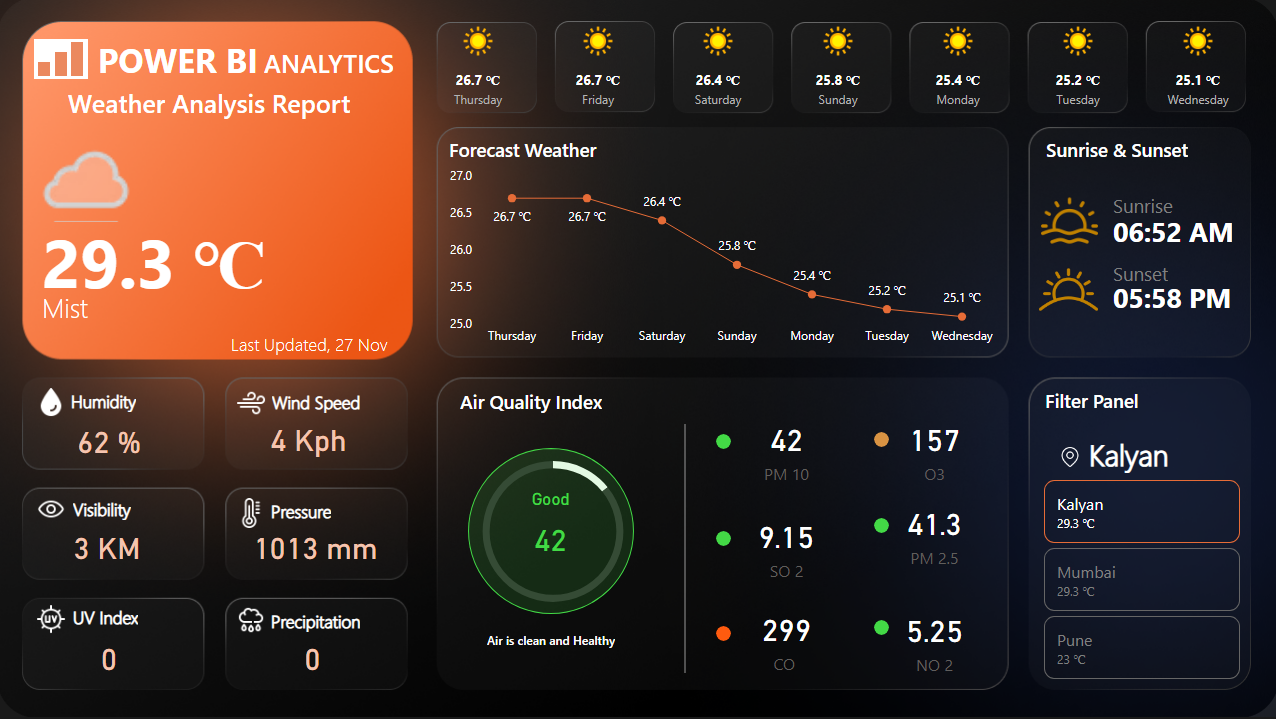

The page's visual inventory and layout, read from the dashboard file:
{"tool":"powerbi","page":{"name":"Weather Report","canvas":[1280,720],"ordinal":0},"visuals":[{"type":"donutChart","fields":{"Y":["Sum(Current.current.air_quality.pm10)","_Measures.Left_Value_PM10"]},"box":[462,437,186,191],"z":0},{"type":"shape","box":[470,449,166,166],"z":1000},{"type":"advancedSlicerVisual","fields":{"Values":["Location.location.name"],"Label":["_Measures.Curr_Temp_C"]},"box":[1040.6,476.3,205.9,209.6],"z":2000},{"type":"shape","box":[44,284,293,47],"z":3000},{"type":"shape","box":[44,214,302,94],"z":4000},{"type":"shape","box":[1091.5,425.4,101.7,58.3],"z":5000},{"type":"shape","box":[233,320,172,49],"z":6000},{"type":"image","box":[1056.7,440.3,29.8,36],"z":7000},{"type":"cardVisual","fields":{"Data":["Min(Current.current.condition.icon)"]},"box":[0,104,165,124],"z":8000},{"type":"image","box":[32.5,382.5,40,40],"z":9000},{"type":"image","box":[232.5,383.8,40,40],"z":10000},{"type":"image","box":[32.5,490,40,40],"z":11000},{"type":"image","box":[232.5,493.8,40,40],"z":12000},{"type":"image","box":[232.5,601.2,40,40],"z":13000},{"type":"image","box":[32.5,600,40,40],"z":14000},{"type":"shape","box":[72.5,377.5,137.5,47.5],"z":15000},{"type":"shape","box":[273.8,378.8,137.5,47.5],"z":16000},{"type":"shape","box":[272.5,487.5,137.5,47.5],"z":17000},{"type":"shape","box":[75,485,137.5,47.5],"z":18000},{"type":"shape","box":[75,593.8,137.5,47.5],"z":19000},{"type":"shape","box":[272.5,597.5,137.5,47.5],"z":20000},{"type":"card","fields":{"Values":["_Measures.Humidity"]},"box":[52.5,378.8,116.2,123.8],"z":21000},{"type":"card","fields":{"Values":["_Measures.Wind Speed"]},"box":[232.5,377.5,155,123.8],"z":22000},{"type":"card","fields":{"Values":["_Measures.Pressure"]},"box":[216.2,485,202.5,123.8],"z":23000},{"type":"card","fields":{"Values":["Sum(Current.current.precip_mm)"]},"box":[256.2,596.2,116.2,123.8],"z":24000},{"type":"card","fields":{"Values":["Sum(Current.current.uv)"]},"box":[52.5,596.2,116.2,123.8],"z":25000},{"type":"card","fields":{"Values":["_Measures.Visibility"]},"box":[28.8,485,160,123.8],"z":26000},{"type":"advancedSlicerVisual","fields":{"Label":["Sum(Forecast_Day.forecast.forecastday.day.avgtemp_f)"],"Values":["Forecast_Day.Day_Name"]},"box":[418.8,10,846.2,116.2],"z":27000},{"type":"lineChart","title":"Forecast Weather","fields":{"Y":["Sum(Forecast_Day.forecast.forecastday.day.avgtemp_c)"],"Category":["Forecast_Day.Day_Name"]},"box":[446.2,137.5,558.8,217.5],"z":28000},{"type":"shape","box":[1047.5,126.2,181.2,47.5],"z":29000},{"type":"shape","box":[1115,158.8,150,93.8],"z":30000},{"type":"shape","box":[1115,182.5,150,97.5],"z":31000},{"type":"shape","box":[1115,251.2,150,93.8],"z":32000},{"type":"shape","box":[1115,227.5,150,93.8],"z":33000},{"type":"image","box":[1037.5,182.5,67.5,77.5],"z":34000},{"type":"image","box":[1026.2,241.2,88.8,98.8],"z":35000},{"type":"shape","box":[1046.8,378.3,181.1,47.1],"z":36000},{"type":"shape","box":[100,36,266,48],"z":37000},{"type":"shape","box":[266,40,137,47],"z":38000},{"type":"shape","box":[36,40,54,40],"z":39000},{"type":"shape","box":[73,43,12,34],"z":40000},{"type":"shape","box":[56.7,52.5,12.5,24.2],"z":41000},{"type":"shape","box":[40,63.3,12,14],"z":42000},{"type":"shape","box":[70,80,295,47],"z":43000},{"type":"shape","box":[462,379,181,47],"z":44000},{"type":"card","fields":{"Values":["Sum(Current.current.air_quality.pm10)"]},"box":[711,410,155,80],"z":45000},{"type":"card","fields":{"Values":["Sum(Current.current.air_quality.o3)"]},"box":[859,410,155,80],"z":46000},{"type":"card","fields":{"Values":["Sum(Current.current.air_quality.pm2_5)"]},"box":[859,494,155,80],"z":47000},{"type":"card","fields":{"Values":["Sum(Current.current.air_quality.no2)"]},"box":[859,601,155,80],"z":48000},{"type":"card","fields":{"Values":["Sum(Current.current.air_quality.co)"]},"box":[711,600,155,80],"z":49000},{"type":"card","fields":{"Values":["Sum(Current.current.air_quality.so2)"]},"box":[711,507,155,80],"z":50000},{"type":"shape","box":[718,435,15,15],"z":51000},{"type":"shape","box":[718,627,15,15],"z":52000},{"type":"shape","box":[718,532,15,15],"z":53000},{"type":"shape","box":[876,433,15,15],"z":54000},{"type":"shape","box":[876,519,15,15],"z":55000},{"type":"shape","box":[876,621,15,15],"z":56000},{"type":"shape","box":[681,425,12,249],"z":57000},{"type":"card","fields":{"Values":["Sum(Current.current.air_quality.pm10)"]},"box":[475,490,155,80],"z":58000},{"type":"shape","box":[449,617,208,47],"z":58001}]}

Visuals, with their boxes in screenshot pixels (x1, y1, x2, y2), scaled from the page's 1280x720 canvas onto the 1276x719 screenshot:
donutChart - Sum(Current.current.air_quality.pm10) x _Measures.Left_Value_PM10: <bbox>461, 436, 646, 627</bbox>
shape: <bbox>469, 448, 634, 614</bbox>
advancedSlicerVisual - Location.location.name x _Measures.Curr_Temp_C: <bbox>1037, 476, 1243, 685</bbox>
shape: <bbox>44, 284, 336, 331</bbox>
shape: <bbox>44, 214, 345, 308</bbox>
shape: <bbox>1088, 425, 1189, 483</bbox>
shape: <bbox>232, 320, 404, 368</bbox>
image: <bbox>1053, 440, 1083, 476</bbox>
cardVisual - Min(Current.current.condition.icon): <bbox>0, 104, 164, 228</bbox>
image: <bbox>32, 382, 72, 422</bbox>
image: <bbox>232, 383, 272, 423</bbox>
image: <bbox>32, 489, 72, 529</bbox>
image: <bbox>232, 493, 272, 533</bbox>
image: <bbox>232, 600, 272, 640</bbox>
image: <bbox>32, 599, 72, 639</bbox>
shape: <bbox>72, 377, 209, 424</bbox>
shape: <bbox>273, 378, 410, 426</bbox>
shape: <bbox>272, 487, 409, 534</bbox>
shape: <bbox>75, 484, 212, 532</bbox>
shape: <bbox>75, 593, 212, 640</bbox>
shape: <bbox>272, 597, 409, 644</bbox>
card - _Measures.Humidity: <bbox>52, 378, 168, 502</bbox>
card - _Measures.Wind Speed: <bbox>232, 377, 386, 501</bbox>
card - _Measures.Pressure: <bbox>216, 484, 417, 608</bbox>
card - Sum(Current.current.precip_mm): <bbox>255, 595, 371, 718</bbox>
card - Sum(Current.current.uv): <bbox>52, 595, 168, 718</bbox>
card - _Measures.Visibility: <bbox>29, 484, 188, 608</bbox>
advancedSlicerVisual - Sum(Forecast_Day.forecast.forecastday.day.avgtemp_f) x Forecast_Day.Day_Name: <bbox>417, 10, 1261, 126</bbox>
"Forecast Weather" lineChart: <bbox>445, 137, 1002, 355</bbox>
shape: <bbox>1044, 126, 1225, 173</bbox>
shape: <bbox>1112, 159, 1261, 252</bbox>
shape: <bbox>1112, 182, 1261, 280</bbox>
shape: <bbox>1112, 251, 1261, 345</bbox>
shape: <bbox>1112, 227, 1261, 321</bbox>
image: <bbox>1034, 182, 1102, 260</bbox>
image: <bbox>1023, 241, 1112, 340</bbox>
shape: <bbox>1044, 378, 1224, 425</bbox>
shape: <bbox>100, 36, 365, 84</bbox>
shape: <bbox>265, 40, 402, 87</bbox>
shape: <bbox>36, 40, 90, 80</bbox>
shape: <bbox>73, 43, 85, 77</bbox>
shape: <bbox>57, 52, 69, 77</bbox>
shape: <bbox>40, 63, 52, 77</bbox>
shape: <bbox>70, 80, 364, 127</bbox>
shape: <bbox>461, 378, 641, 425</bbox>
card - Sum(Current.current.air_quality.pm10): <bbox>709, 409, 863, 489</bbox>
card - Sum(Current.current.air_quality.o3): <bbox>856, 409, 1011, 489</bbox>
card - Sum(Current.current.air_quality.pm2_5): <bbox>856, 493, 1011, 573</bbox>
card - Sum(Current.current.air_quality.no2): <bbox>856, 600, 1011, 680</bbox>
card - Sum(Current.current.air_quality.co): <bbox>709, 599, 863, 679</bbox>
card - Sum(Current.current.air_quality.so2): <bbox>709, 506, 863, 586</bbox>
shape: <bbox>716, 434, 731, 449</bbox>
shape: <bbox>716, 626, 731, 641</bbox>
shape: <bbox>716, 531, 731, 546</bbox>
shape: <bbox>873, 432, 888, 447</bbox>
shape: <bbox>873, 518, 888, 533</bbox>
shape: <bbox>873, 620, 888, 635</bbox>
shape: <bbox>679, 424, 691, 673</bbox>
card - Sum(Current.current.air_quality.pm10): <bbox>474, 489, 628, 569</bbox>
shape: <bbox>448, 616, 655, 663</bbox>
